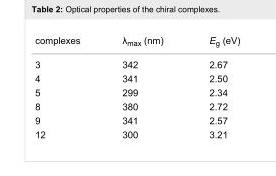table: (34, 34, 239, 139)
table column: (100, 34, 185, 139), (34, 34, 100, 139), (185, 34, 239, 139)
table row: (34, 34, 239, 52), (34, 52, 239, 70), (34, 84, 239, 99), (34, 70, 239, 84), (34, 99, 239, 113), (34, 113, 239, 127), (34, 127, 239, 139)
